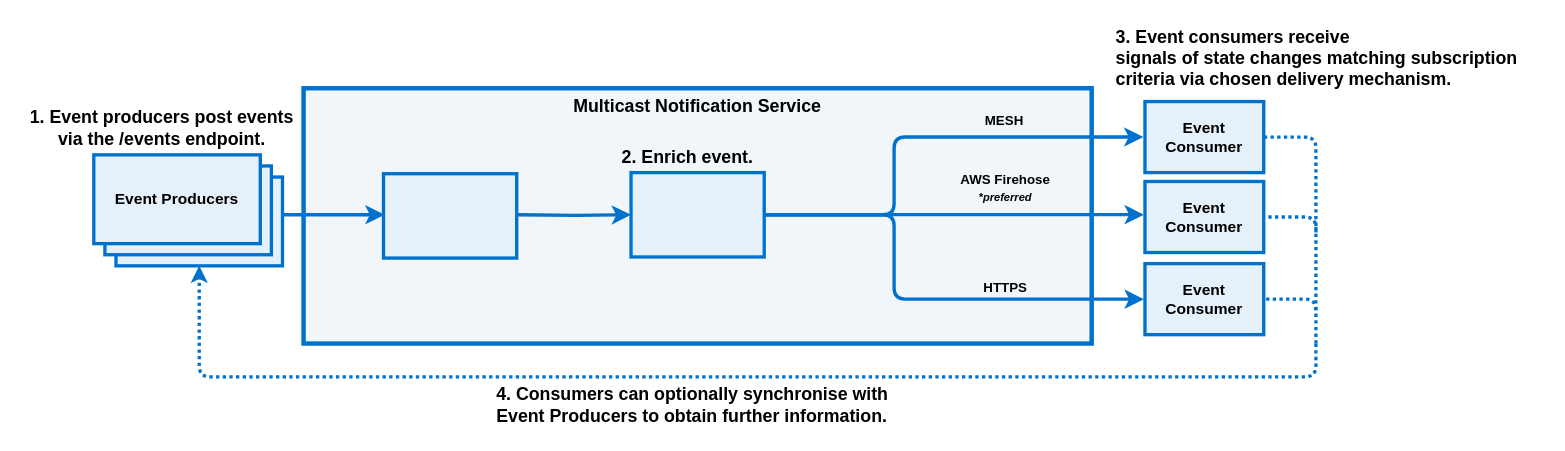
This 1565x451 diagram has some shape labels left out. The centre of each missing label's shape, as x and y in pixels:
"API" belongs at (x=449, y=215).
"Enrichment" belongs at (x=697, y=214).
